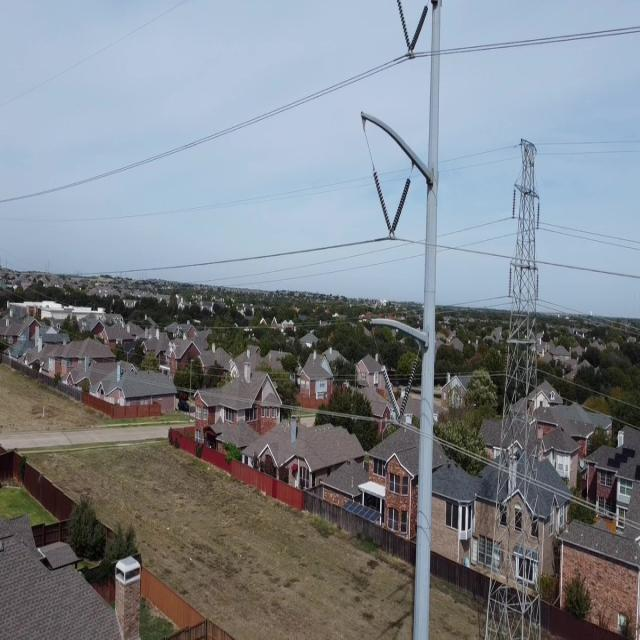杆塔: (478, 132, 547, 640)
正常绝缘子: (389, 351, 425, 441), (365, 154, 397, 245), (375, 349, 408, 435), (382, 168, 415, 251), (402, 0, 434, 64), (392, 0, 416, 62), (509, 184, 519, 222), (506, 262, 514, 300), (534, 196, 542, 232), (534, 268, 541, 302)
